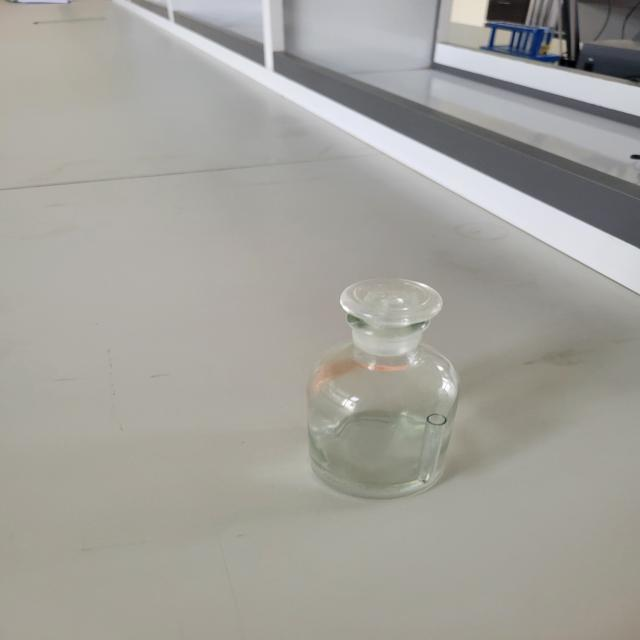Reagent_Bottle: (286, 236, 490, 528)
